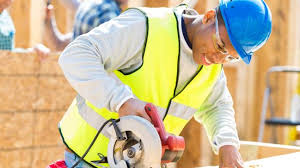hard hat: (219, 1, 271, 65)
high-vis: (58, 3, 218, 168)
